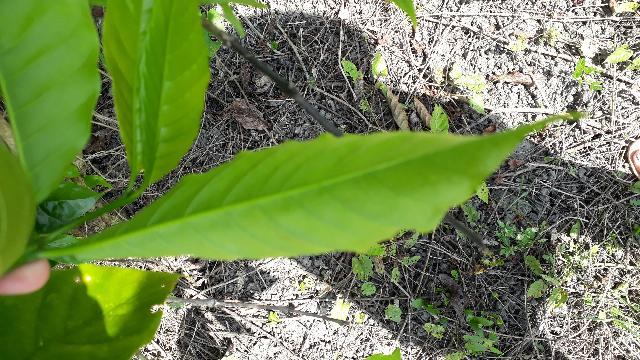healthy: (58, 115, 570, 260)
